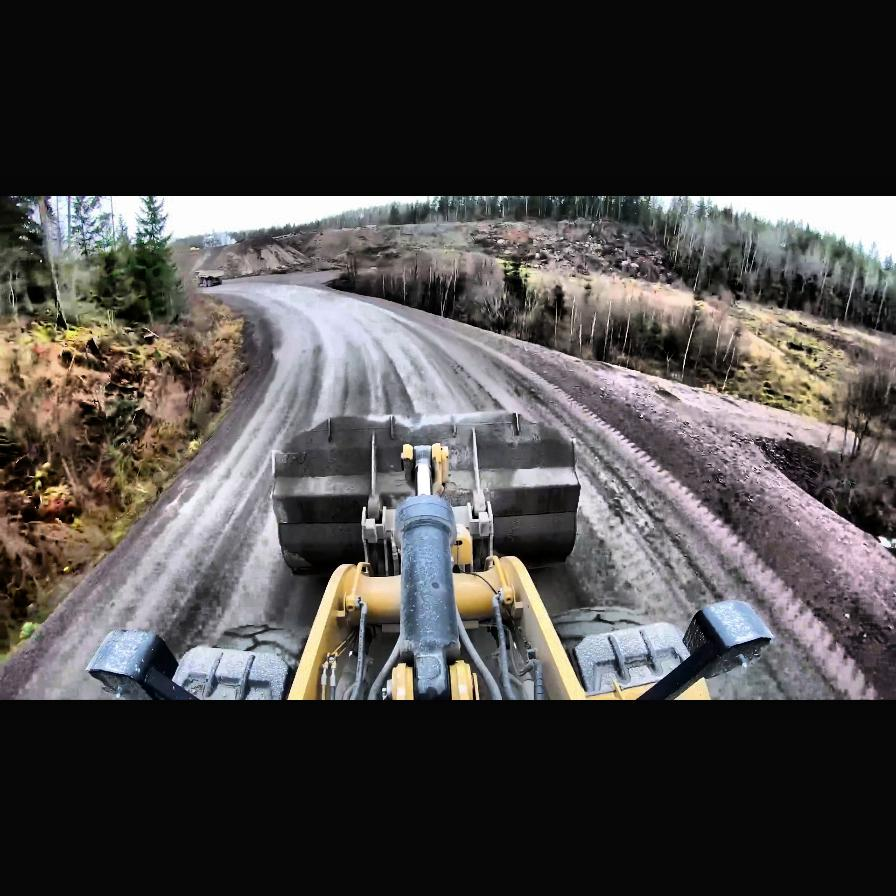anchor: (402, 442, 450, 498)
